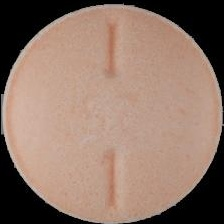66336-340: (0, 0, 224, 224)
